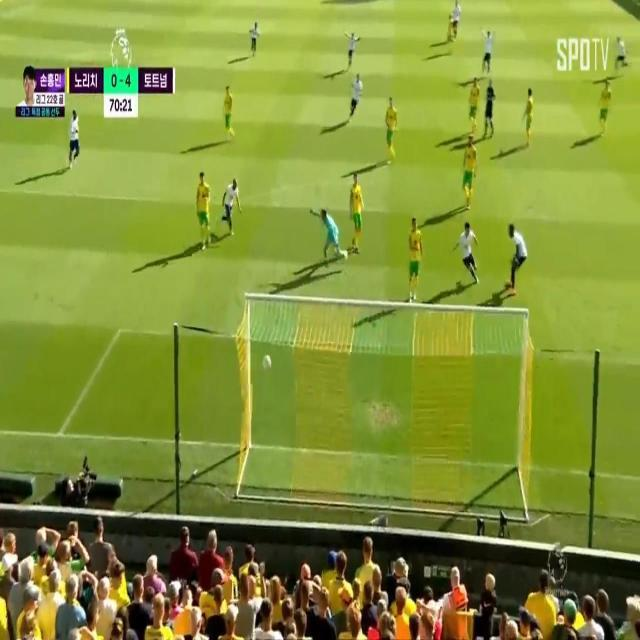ball: (260, 344, 275, 369)
goalkeeper: (310, 193, 348, 284)
player: (502, 214, 528, 309), (453, 227, 481, 289), (220, 176, 245, 237), (194, 166, 212, 250), (406, 212, 422, 301), (459, 139, 477, 208), (66, 103, 85, 165), (345, 68, 368, 119), (352, 167, 365, 253), (383, 94, 399, 162), (465, 69, 479, 137), (596, 78, 612, 137), (479, 21, 495, 74), (341, 25, 362, 65), (612, 31, 628, 75), (221, 87, 235, 135), (525, 83, 535, 148), (246, 12, 261, 55), (452, 0, 462, 37), (446, 14, 456, 44)
referee: (483, 78, 501, 140)
